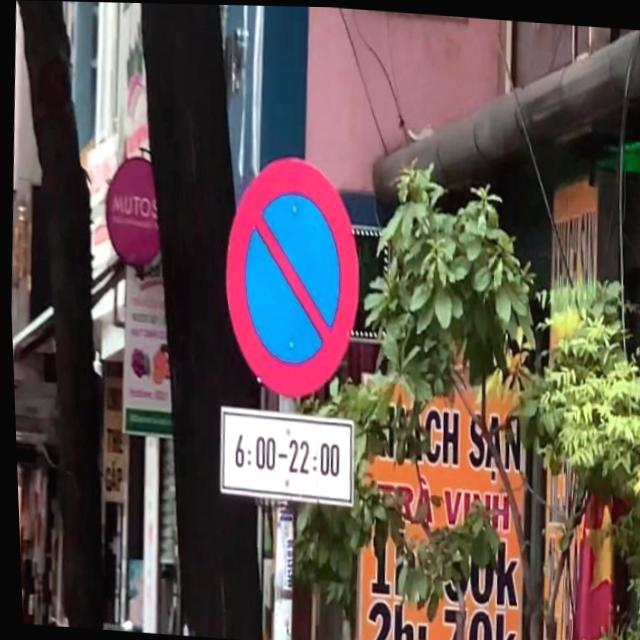Cam do xe: (216, 149, 368, 399)
